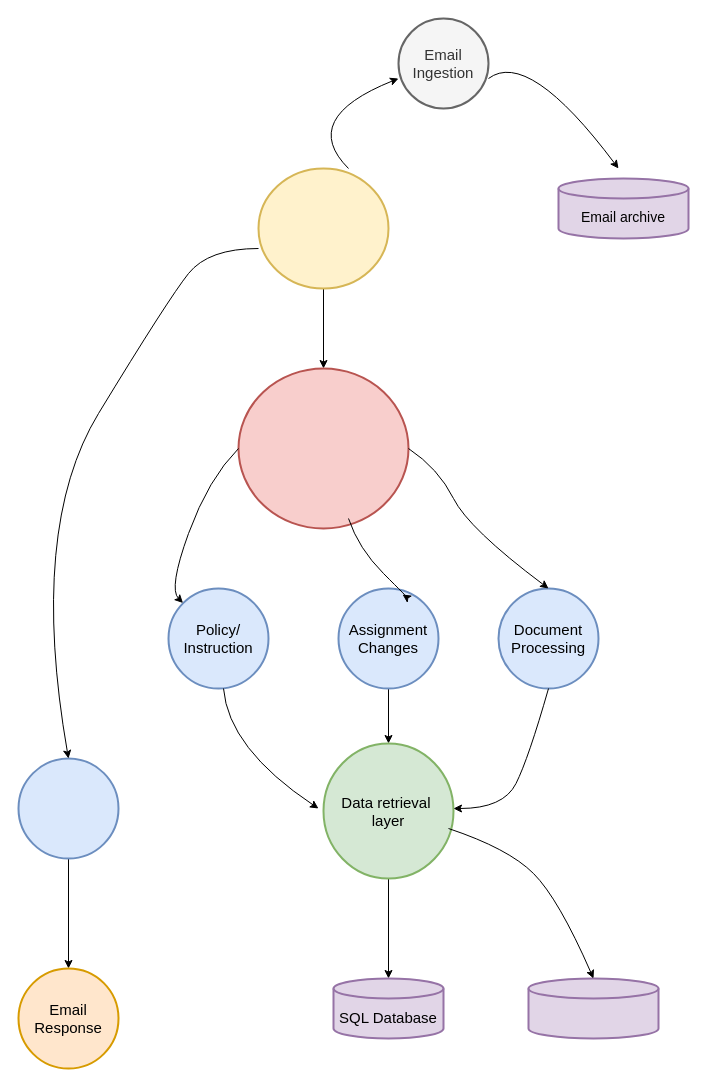
The diagram is 706 pixels wide and 1086 high, and some of its shapes have lost their labels. The shapes that lost their labels are listed below. From the top down, each one's centre as x and y in pixels, then its label:
At point 323,228: "Email Classification".
At point 323,448: "Binary Array Classification".
At point 68,808: "Human Review".
At point 593,1008: "Document Store".
